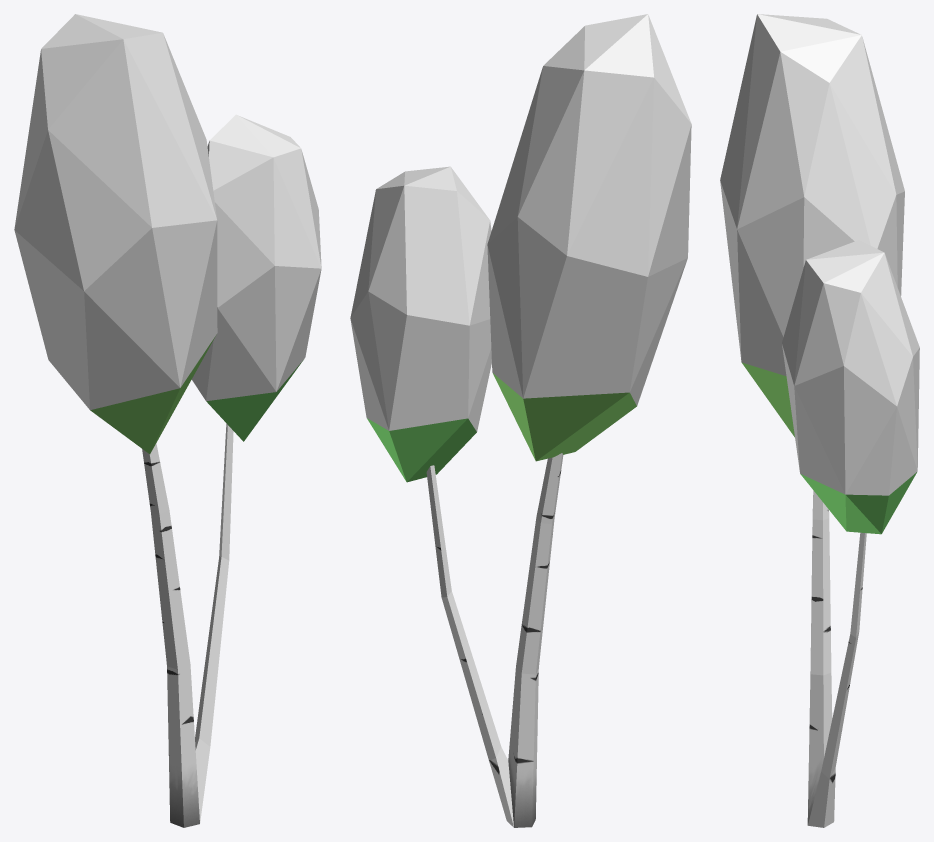
Rendered from Birch_Tree_m_Snow_05_LOD.fbx.
3 views of the same model, side by side, from view 1: azimuth 30°, elevation 25°; view 2: azimuth 150°, elevation 25°; view 3: azimuth 270°, elevation 25° (orthographic). The views are drawn at different scales.
Parts seen in each view (by area): view 1: Birch_Tree_m_Snow_05_LOD0; view 2: Birch_Tree_m_Snow_05_LOD0; view 3: Birch_Tree_m_Snow_05_LOD0.
Boxes of the visible parts, box(x1,y1,x2,y2) form: Birch_Tree_m_Snow_05_LOD0: box(14, 14, 321, 827); Birch_Tree_m_Snow_05_LOD0: box(350, 14, 691, 827); Birch_Tree_m_Snow_05_LOD0: box(720, 14, 919, 827).
Size of what is drawn, in the model's own units: 280 by 735 by 174.
